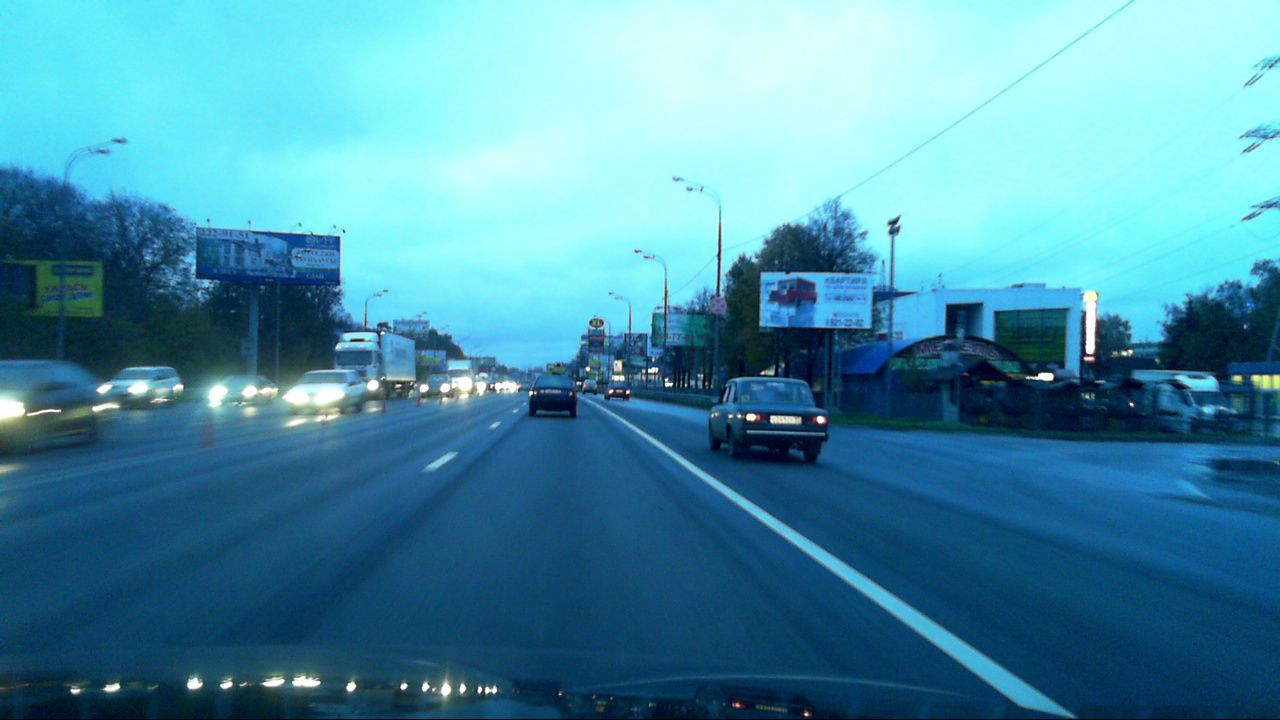No Parking: (708, 297, 725, 314)
